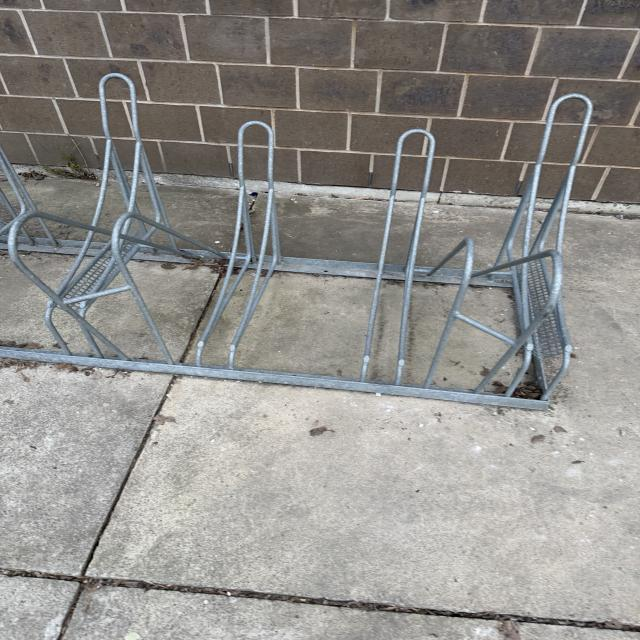Bicycle Rack: (0, 71, 596, 413)
